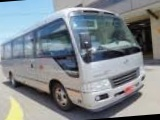bus: (0, 1, 148, 119)
